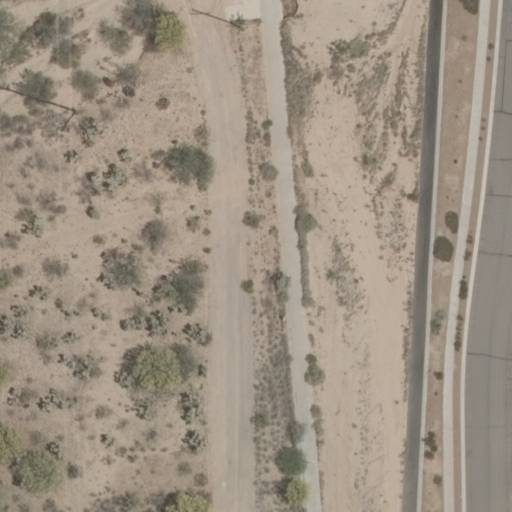DT: (53, 102, 83, 134)
